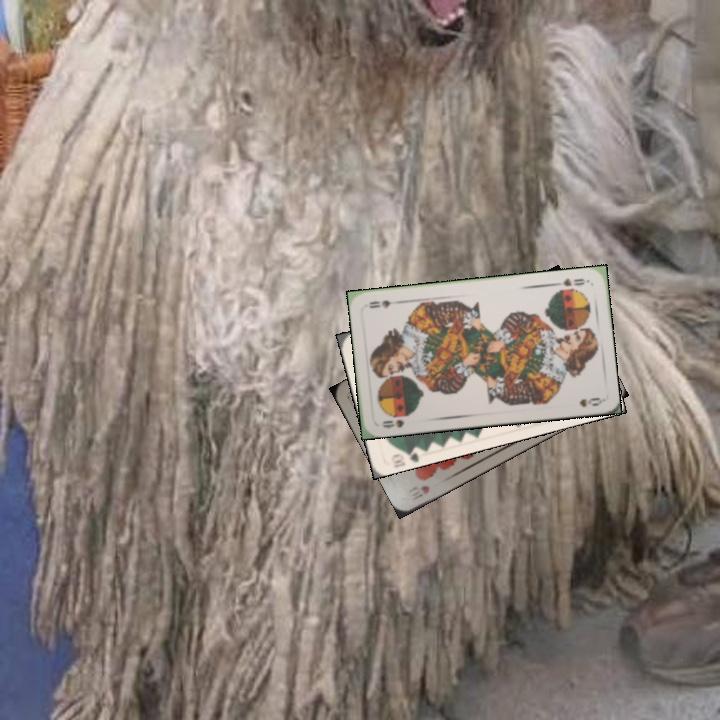G10: (386, 443, 424, 466)
H10: (408, 481, 432, 503)
SO: (551, 274, 587, 289), (377, 415, 407, 431)
